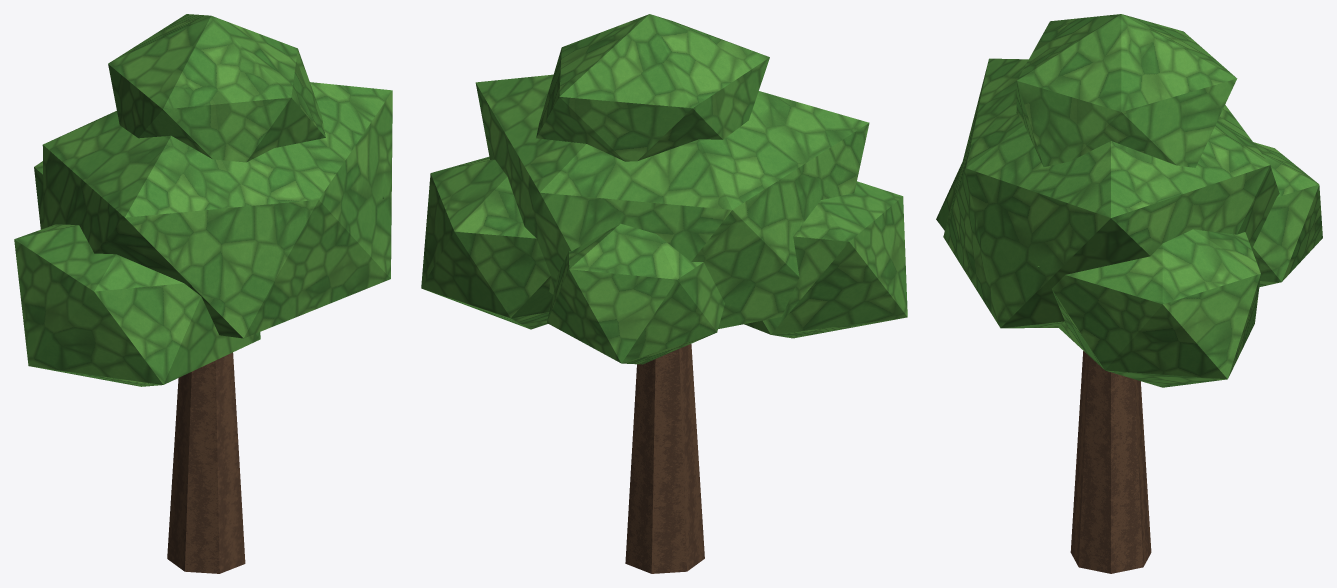
File: Tree_Oak.fbx
3 renders of one model, left to right at view 1: azimuth 30°, elevation 25°; view 2: azimuth 150°, elevation 25°; view 3: azimuth 270°, elevation 25°, orthographic. The views are drawn at different scales.
Visible parts, largest first — view 1: Tree_Oak; view 2: Tree_Oak; view 3: Tree_Oak.
Part boxes in pixels (x1,y1,x2,y2): Tree_Oak: (14,14,392,573); Tree_Oak: (421,14,907,573); Tree_Oak: (936,14,1322,573).
Bounding box in the file's own units: 2.35 × 2.92 × 1.87.
Materials: 2 (2 with a texture image).
